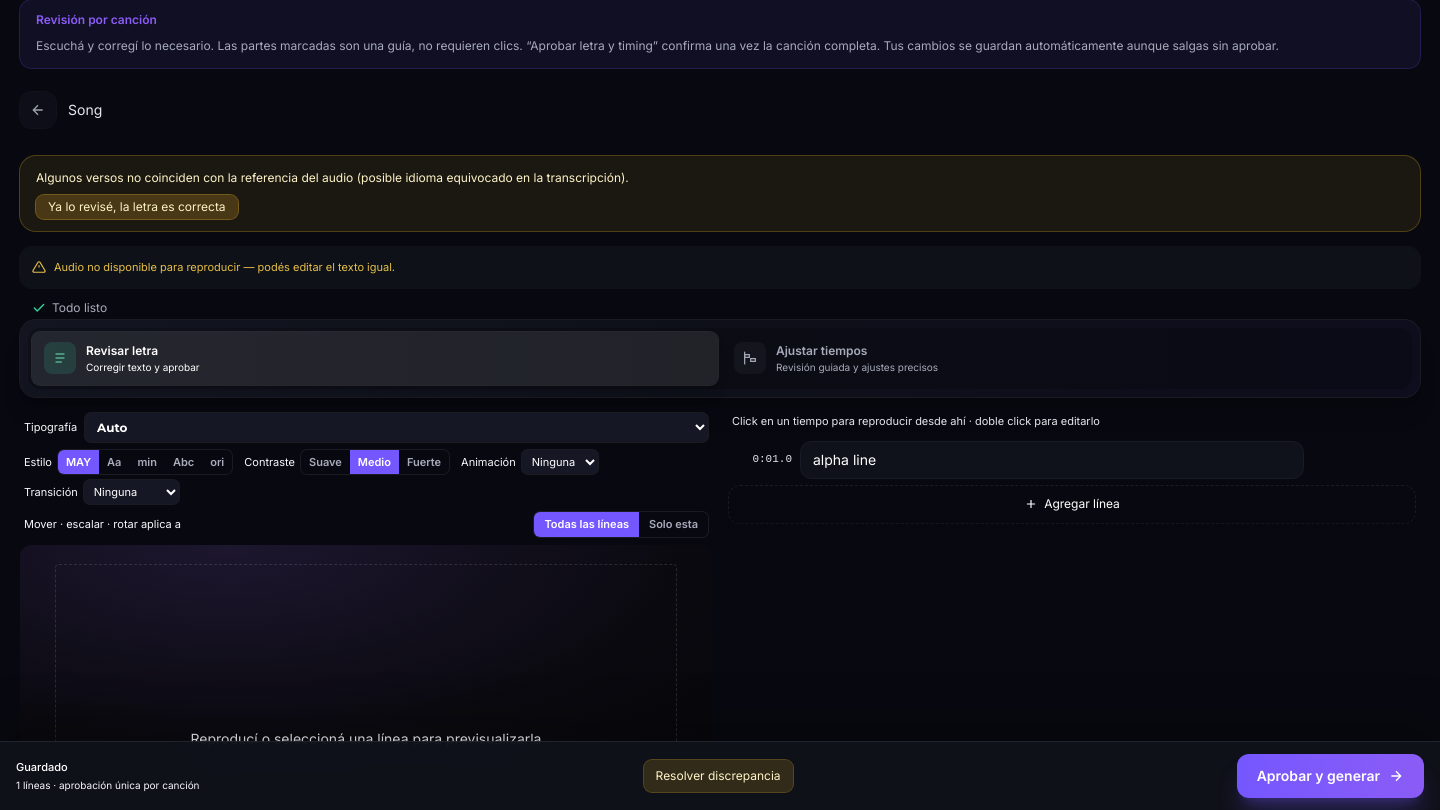
it: keeps approval blocked and edits visible when saving the confirmation fails
Click the button "Resolver discrepancia" at (718, 776), box [644, 760, 793, 792]
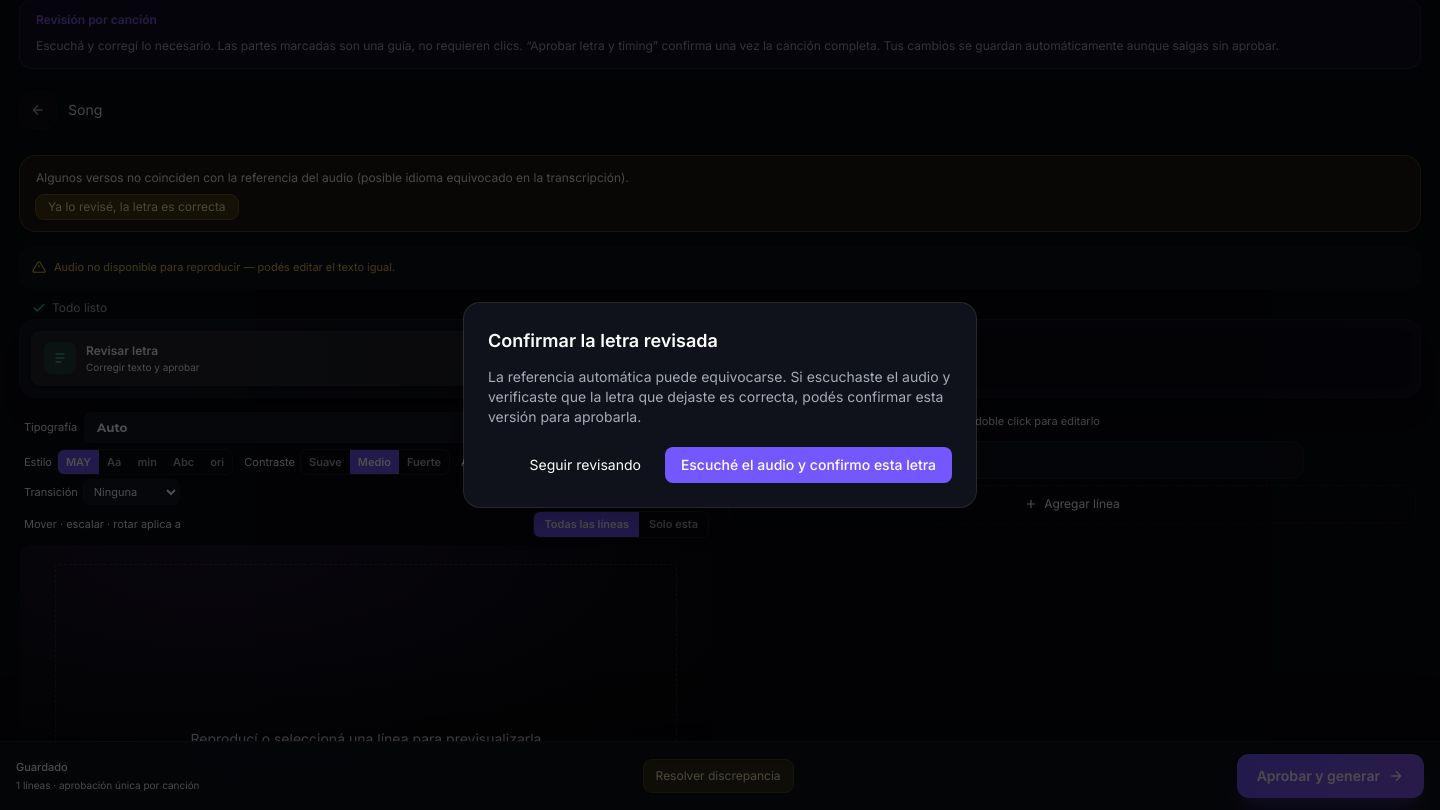
Click the button "Escuché el audio y confirmo esta letra" at (808, 465), box [665, 447, 952, 483]
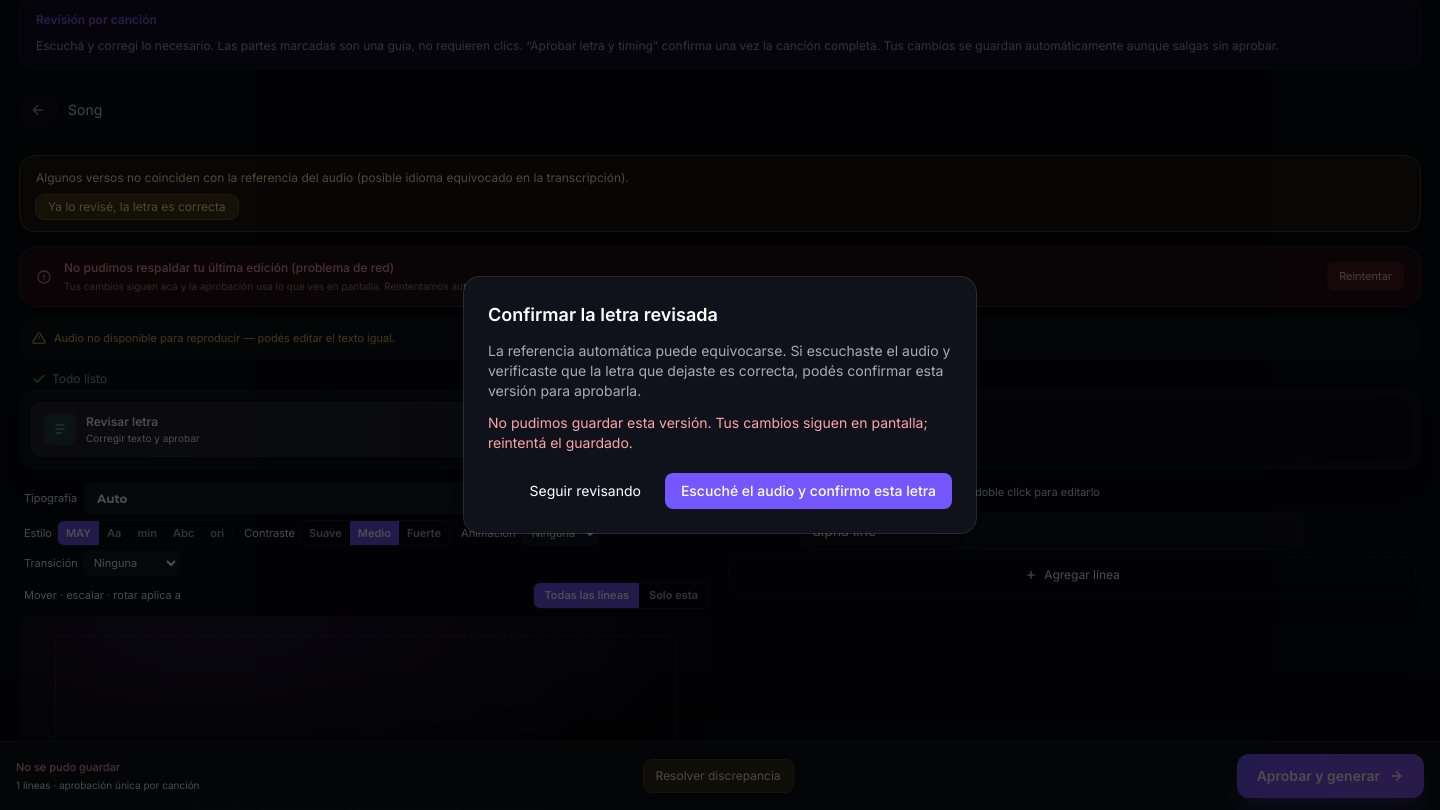
Result: the dialog is shown at [464, 277, 976, 533]
Result: the text "No pudimos guardar esta versión" is shown at [488, 414, 928, 451]
